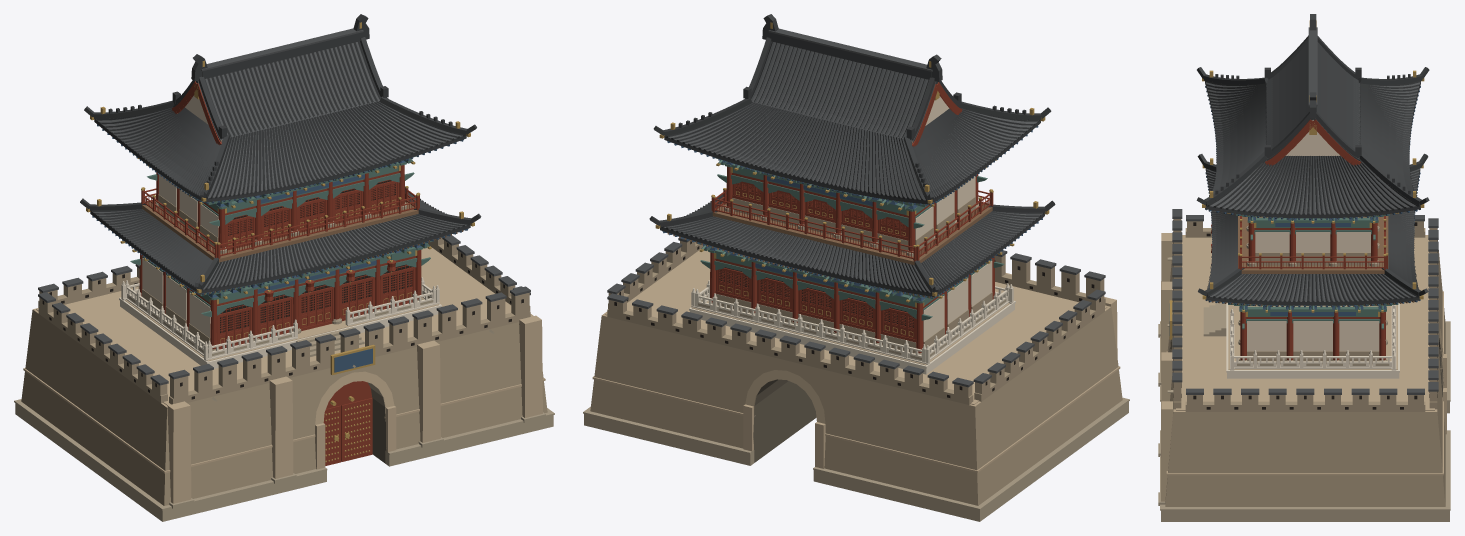
3 views of the same model, side by side, from view 1: azimuth 30°, elevation 25°; view 2: azimuth 150°, elevation 25°; view 3: azimuth 270°, elevation 25° (orthographic). The views are drawn at different scales.
Parts seen in each view (by area): view 1: J02; view 2: J02; view 3: J02.
Part boxes in pixels (left/top/right/bottom): J02: left=14, top=14, right=554, bottom=521; J02: left=583, top=14, right=1129, bottom=521; J02: left=1158, top=14, right=1450, bottom=521.
Size of the model in its own units: 34.62 by 32.21 by 22.76.
